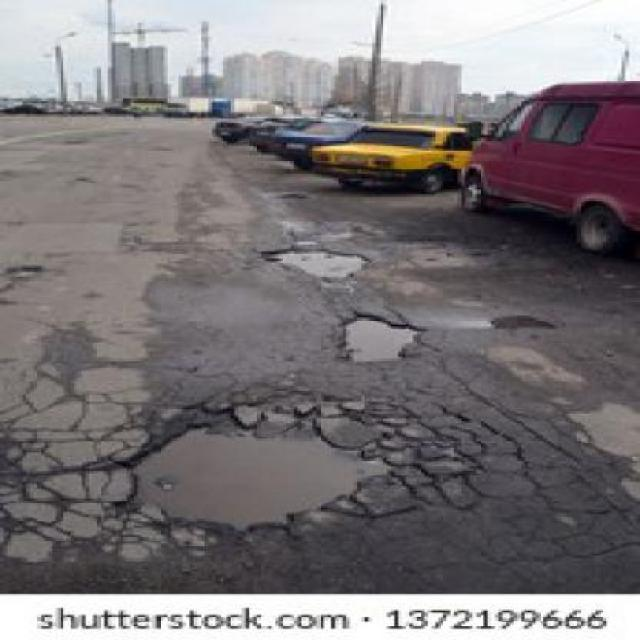Pothole: (103, 392, 447, 542), (335, 306, 436, 374), (253, 241, 374, 282), (6, 266, 42, 279)
